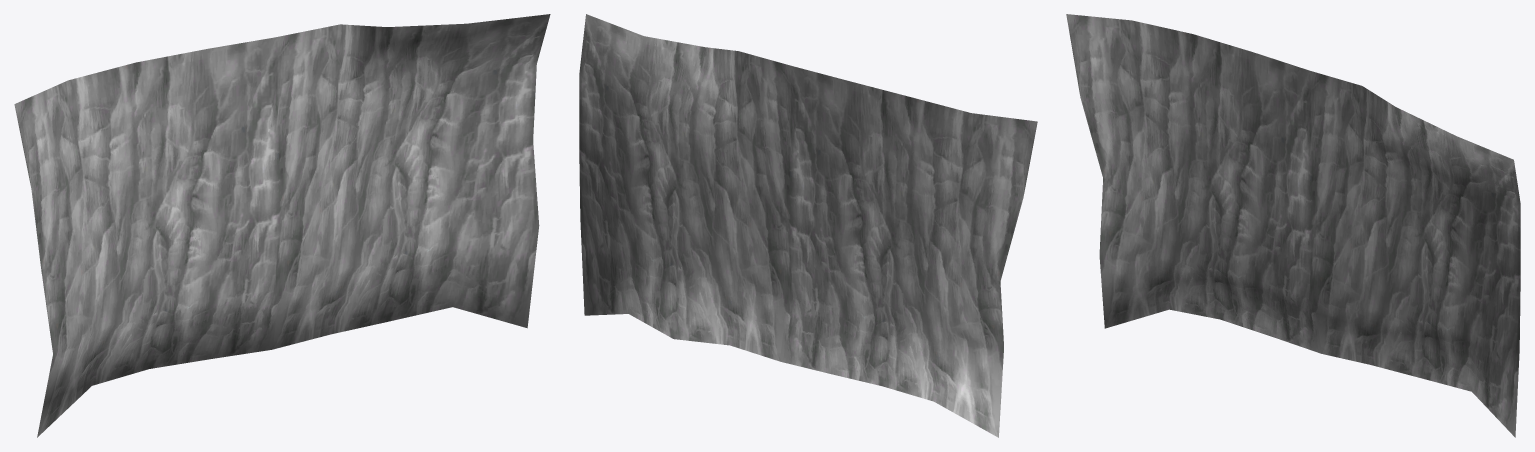
File: SWORDLIGHT20_PS-AREA03_175.fbx
3 views of the same model, side by side, from view 1: azimuth 30°, elevation 25°; view 2: azimuth 150°, elevation 25°; view 3: azimuth 330°, elevation 25° (orthographic). The views are drawn at different scales.
Parts seen in each view (by area): view 1: SWORDLIGHT20_PS-AREA03_175; view 2: SWORDLIGHT20_PS-AREA03_175; view 3: SWORDLIGHT20_PS-AREA03_175.
Boxes of the visible parts, x1,y1,x2,y2 form: SWORDLIGHT20_PS-AREA03_175: [14, 14, 550, 437]; SWORDLIGHT20_PS-AREA03_175: [579, 14, 1037, 437]; SWORDLIGHT20_PS-AREA03_175: [1066, 14, 1520, 437].
Size of the model in its own units: 80174 by 52116 by 10121.
1 material, 1 textured.
